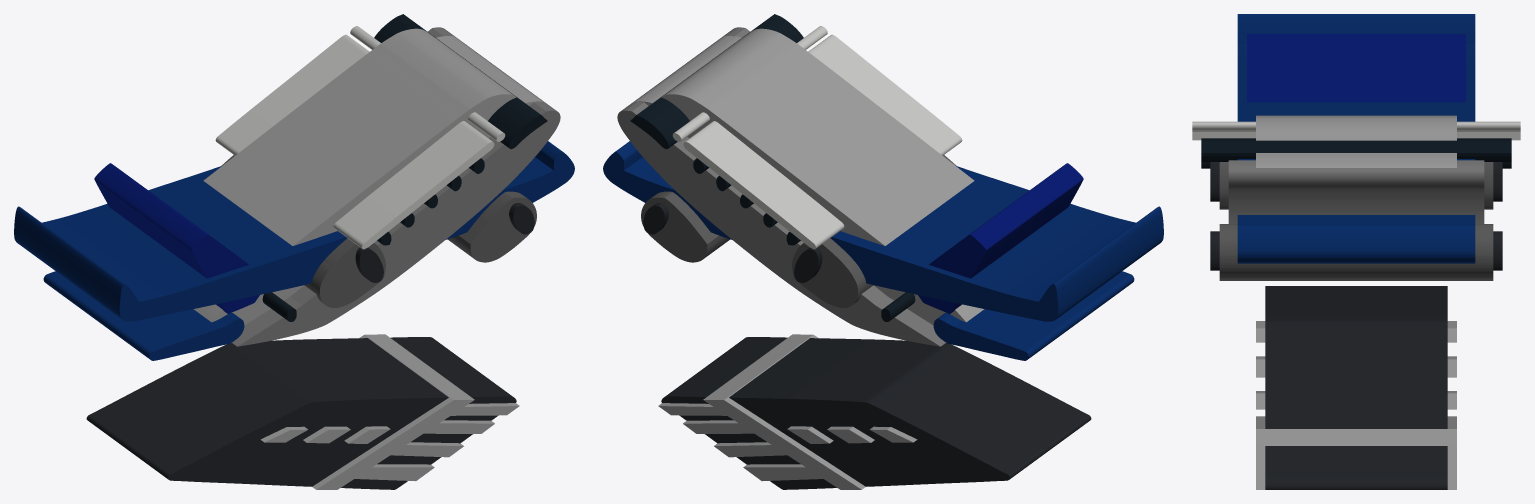
The picture shows the model from 3 angles, left to right: view 1: azimuth 30°, elevation 25°; view 2: azimuth 150°, elevation 25°; view 3: azimuth 270°, elevation 25°; orthographic projection. The views are drawn at different scales.
Parts seen in each view (by area): view 1: U+1F6EB_layer00_obj00, U+1F6EB_layer01_obj08, U+1F6EB_layer03_obj02, U+1F6EB_layer08_obj01, U+1F6EB_layer04_obj00, U+1F6EB_layer02_obj00, U+1F6EB_layer03_obj00, U+1F6EB_layer01_obj00, U+1F6EB_layer05_obj01, U+1F6EB_layer05_obj00, U+1F6EB_layer03_obj01, U+1F6EB_layer07_obj00 (+7 smaller); view 2: U+1F6EB_layer00_obj00, U+1F6EB_layer01_obj08, U+1F6EB_layer03_obj02, U+1F6EB_layer08_obj01, U+1F6EB_layer04_obj00, U+1F6EB_layer02_obj00, U+1F6EB_layer03_obj00, U+1F6EB_layer01_obj00, U+1F6EB_layer05_obj01, U+1F6EB_layer05_obj00, U+1F6EB_layer03_obj01, U+1F6EB_layer07_obj00 (+7 smaller); view 3: U+1F6EB_layer00_obj00, U+1F6EB_layer02_obj00, U+1F6EB_layer04_obj00, U+1F6EB_layer03_obj01, U+1F6EB_layer03_obj02, U+1F6EB_layer01_obj08, U+1F6EB_layer05_obj01, U+1F6EB_layer07_obj00, U+1F6EB_layer01_obj00, U+1F6EB_layer08_obj00, U+1F6EB_layer08_obj01, U+1F6EB_layer05_obj00 (+6 smaller).
Boxes of the visible parts, <box> form: U+1F6EB_layer00_obj00: <box>86,337,516,489</box>; U+1F6EB_layer01_obj08: <box>193,28,542,325</box>; U+1F6EB_layer03_obj02: <box>14,166,347,321</box>; U+1F6EB_layer08_obj01: <box>215,34,494,249</box>; U+1F6EB_layer04_obj00: <box>232,27,560,346</box>; U+1F6EB_layer02_obj00: <box>94,163,259,314</box>; U+1F6EB_layer03_obj00: <box>43,271,244,360</box>; U+1F6EB_layer01_obj00: <box>312,334,474,489</box>; U+1F6EB_layer05_obj01: <box>448,191,536,262</box>; U+1F6EB_layer05_obj00: <box>221,155,385,307</box>; U+1F6EB_layer03_obj01: <box>446,141,574,239</box>; U+1F6EB_layer07_obj00: <box>374,14,547,149</box>; U+1F6EB_layer00_obj00: <box>661,337,1091,489</box>; U+1F6EB_layer01_obj08: <box>635,28,984,325</box>; U+1F6EB_layer03_obj02: <box>830,166,1163,321</box>; U+1F6EB_layer08_obj01: <box>683,34,962,249</box>; U+1F6EB_layer04_obj00: <box>617,27,945,346</box>; U+1F6EB_layer02_obj00: <box>918,163,1083,314</box>; U+1F6EB_layer03_obj00: <box>933,271,1134,360</box>; U+1F6EB_layer01_obj00: <box>703,334,865,489</box>; U+1F6EB_layer05_obj01: <box>641,191,729,262</box>; U+1F6EB_layer05_obj00: <box>792,155,956,307</box>; U+1F6EB_layer03_obj01: <box>603,141,731,239</box>; U+1F6EB_layer07_obj00: <box>630,14,803,149</box>; U+1F6EB_layer00_obj00: <box>1265,286,1447,489</box>; U+1F6EB_layer02_obj00: <box>1247,34,1465,102</box>; U+1F6EB_layer04_obj00: <box>1228,160,1484,223</box>; U+1F6EB_layer03_obj01: <box>1237,215,1475,263</box>; U+1F6EB_layer03_obj02: <box>1237,14,1475,160</box>; U+1F6EB_layer01_obj08: <box>1256,115,1456,167</box>; U+1F6EB_layer05_obj01: <box>1219,224,1493,280</box>; U+1F6EB_layer07_obj00: <box>1201,138,1511,155</box>; U+1F6EB_layer01_obj00: <box>1256,416,1456,445</box>; U+1F6EB_layer08_obj00: <box>1192,121,1520,130</box>; U+1F6EB_layer08_obj01: <box>1192,130,1520,140</box>; U+1F6EB_layer05_obj00: <box>1219,162,1493,209</box>.
Size of the model in its own units: 0.3232 by 0.2536 by 0.18.
